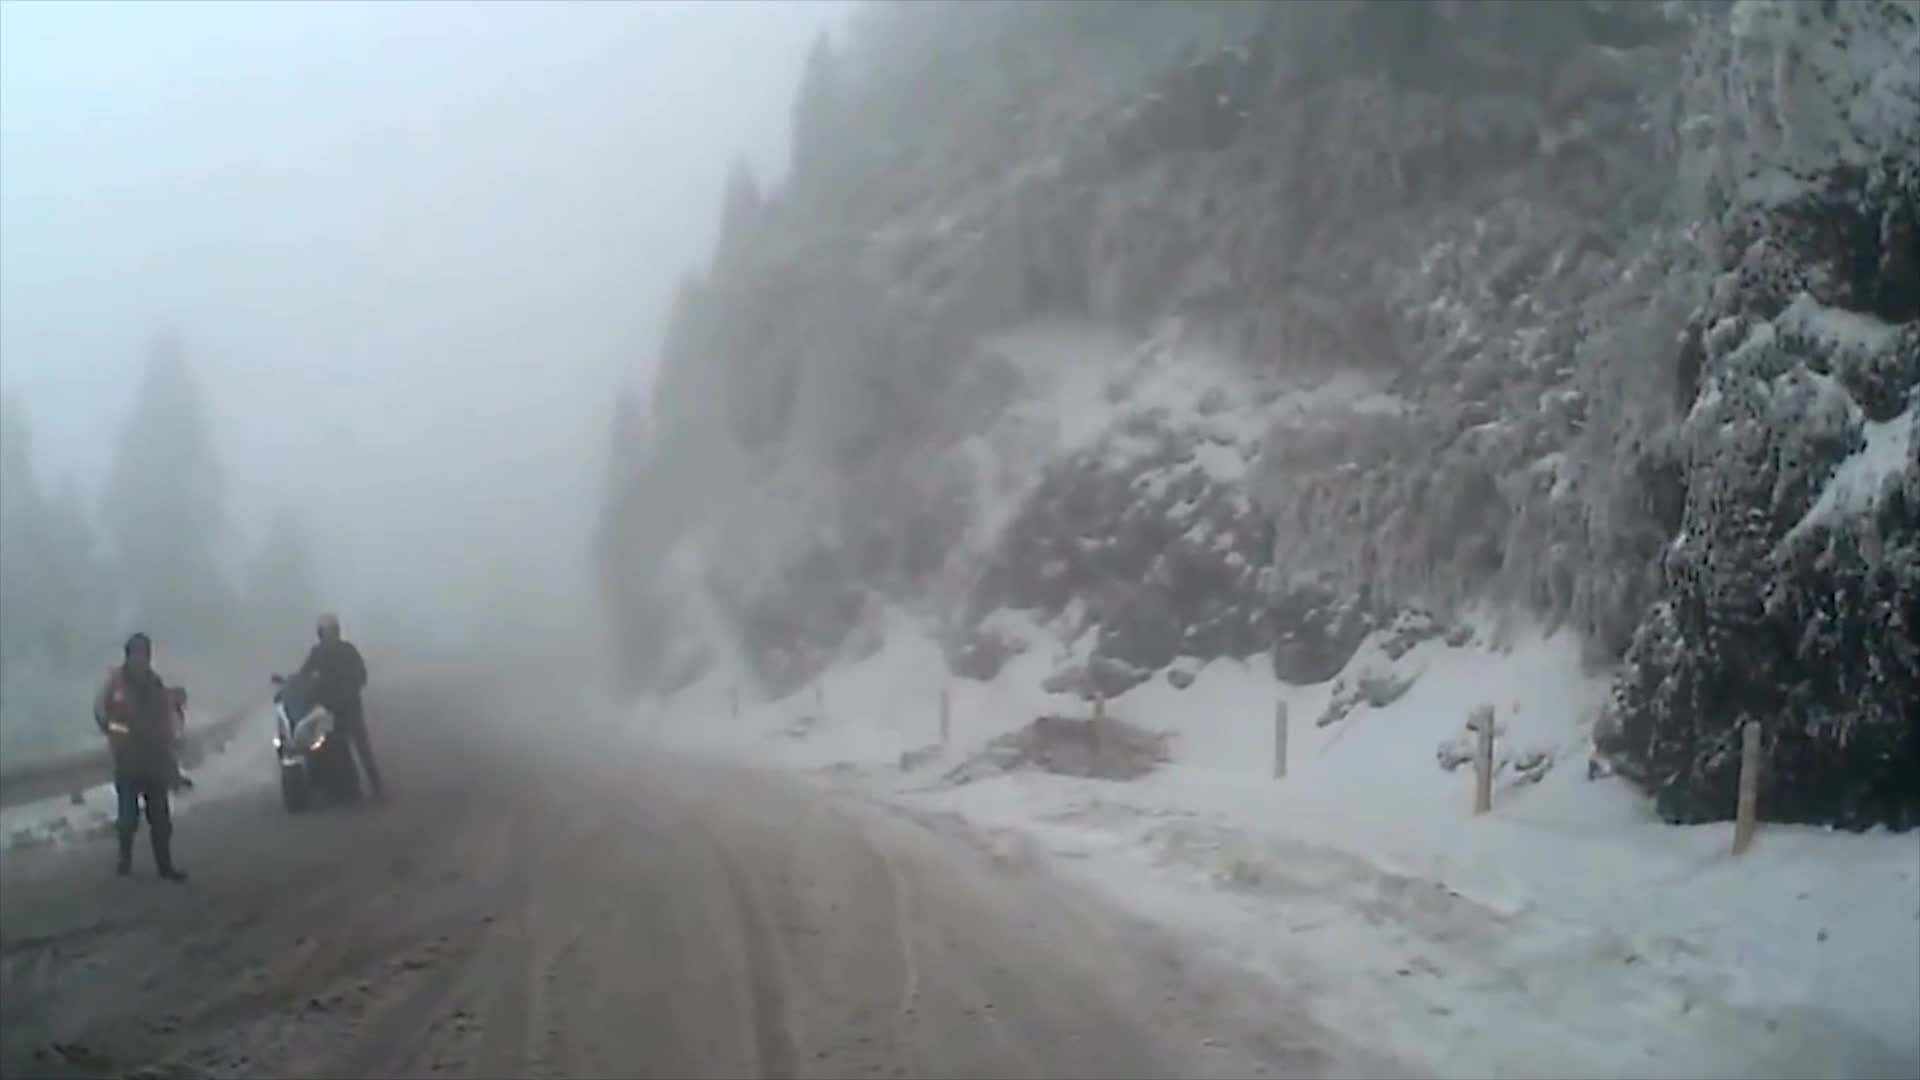pedestrian: (92, 634, 190, 885), (284, 611, 395, 816)
